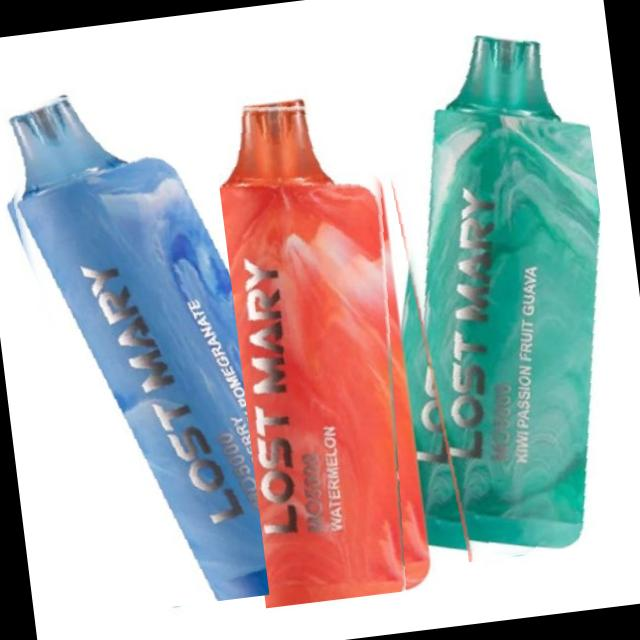Hazard: (363, 22, 640, 566), (0, 74, 269, 620), (204, 87, 434, 608)
